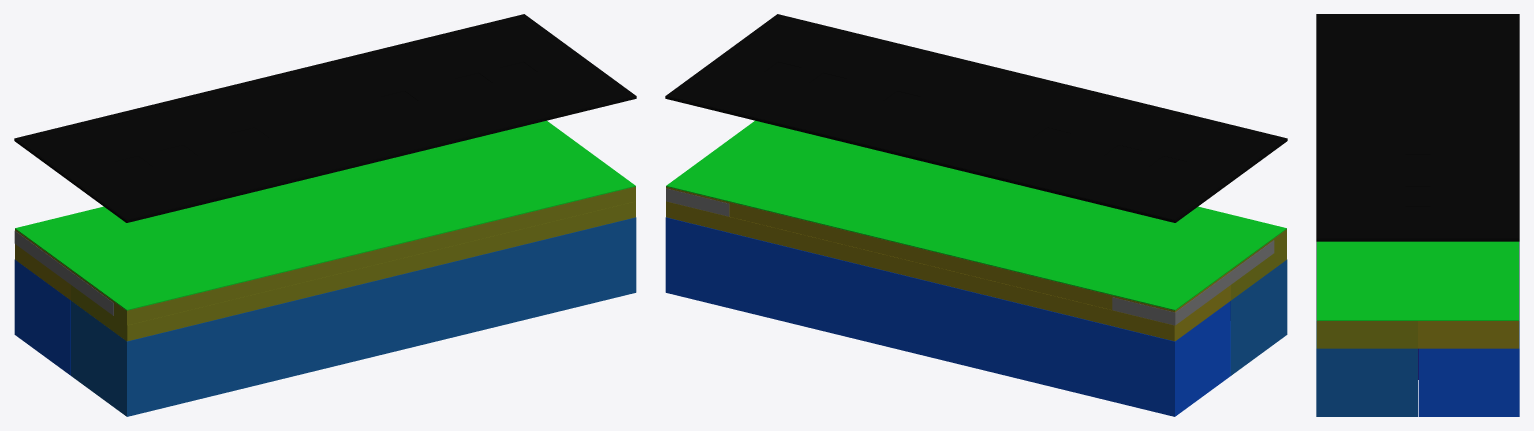
File: CMOS Fabrication.fbx
3 views of the same model, side by side, from view 1: azimuth 30°, elevation 25°; view 2: azimuth 150°, elevation 25°; view 3: azimuth 270°, elevation 25° (orthographic). The views are drawn at different scales.
Parts seen in each view (by area): view 1: mask_contact, p subtrate trans, step_photoresist, step_photoresist_cut, step_thick_field_oxide trans, thin field oxide trans, p subtrate, mask_n, mask_n well, step_thick_field_oxide, metal, metal trans; view 2: mask_contact, step_photoresist, p subtrate, thin field oxide, step_photoresist_cut, step_thick_field_oxide, p subtrate trans, mask_n, metal, mask_n well, step_thick_field_oxide trans, metal trans; view 3: mask_contact, step_photoresist, p subtrate trans, p subtrate, step_photoresist_cut, step_thick_field_oxide, step_thick_field_oxide trans, mask_n, mask_n well, mask_p.
Boxes of the visible parts, x1,y1,x2,y2 form: mask_contact: [15, 14, 634, 219]; p subtrate trans: [71, 217, 636, 416]; step_photoresist: [15, 120, 635, 310]; step_photoresist_cut: [16, 121, 634, 309]; step_thick_field_oxide trans: [71, 186, 635, 341]; thin field oxide trans: [127, 201, 635, 340]; p subtrate: [14, 259, 70, 375]; mask_n: [14, 14, 636, 222]; mask_n well: [15, 14, 635, 220]; step_thick_field_oxide: [15, 229, 70, 300]; metal: [14, 231, 70, 284]; metal trans: [70, 272, 113, 315]; mask_contact: [667, 14, 1286, 219]; step_photoresist: [666, 120, 1286, 310]; p subtrate: [665, 217, 1230, 416]; thin field oxide: [666, 201, 1174, 340]; step_photoresist_cut: [667, 121, 1284, 309]; step_thick_field_oxide: [666, 186, 1230, 341]; p subtrate trans: [1230, 259, 1287, 375]; mask_n: [665, 14, 1287, 222]; metal: [666, 188, 1231, 325]; mask_n well: [666, 14, 1286, 220]; step_thick_field_oxide trans: [1231, 229, 1286, 300]; metal trans: [1231, 240, 1274, 284]; mask_contact: [1317, 14, 1518, 238]; step_photoresist: [1317, 241, 1518, 320]; p subtrate trans: [1316, 242, 1417, 416]; p subtrate: [1418, 242, 1519, 416]; step_photoresist_cut: [1317, 241, 1518, 320]; step_thick_field_oxide: [1418, 242, 1519, 348]; step_thick_field_oxide trans: [1316, 242, 1417, 348]; mask_n: [1316, 14, 1519, 241]; mask_n well: [1405, 36, 1430, 98]; mask_p: [1316, 14, 1519, 239].
Bounding box in the file's own units: 1408 × 537 × 519.
